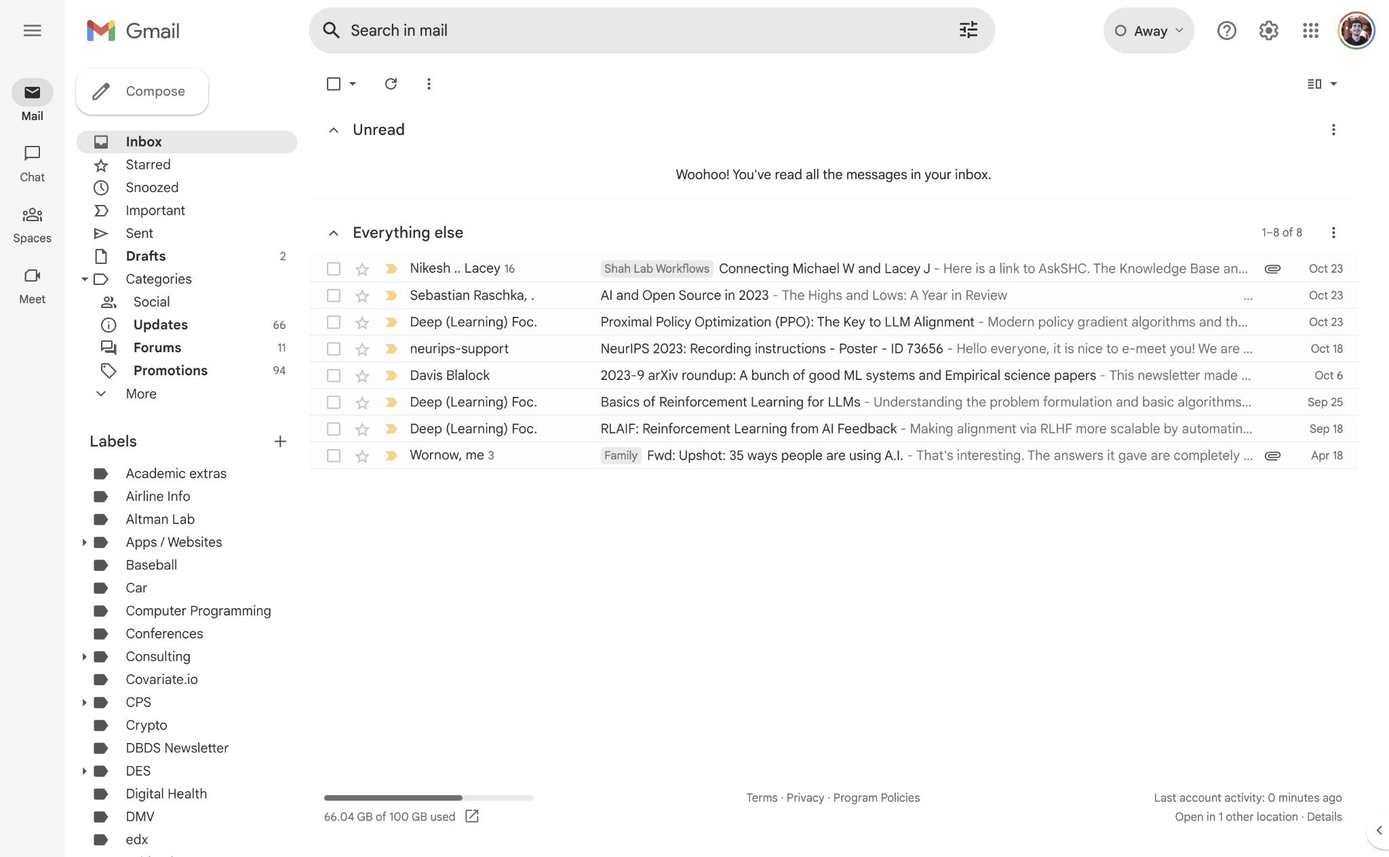webelement: (308, 60, 1373, 841), (308, 255, 1357, 468), (308, 106, 1357, 197), (64, 461, 296, 857), (0, 0, 1388, 60), (64, 130, 296, 404), (0, 60, 64, 856), (308, 788, 1357, 826), (308, 7, 994, 53), (308, 281, 1357, 308), (308, 308, 1357, 335), (308, 361, 1357, 388), (308, 388, 1357, 415), (308, 441, 1357, 468), (308, 255, 1357, 281), (308, 335, 1357, 361), (308, 415, 1357, 441), (600, 259, 1253, 278), (600, 285, 1253, 304), (600, 312, 1253, 331), (600, 339, 1253, 358), (600, 365, 1253, 384), (600, 392, 1253, 411), (600, 419, 1253, 438), (600, 445, 1253, 464), (350, 20, 902, 39), (76, 68, 207, 114), (11, 68, 141, 114), (316, 215, 470, 249), (75, 382, 296, 404), (1103, 7, 1193, 53), (409, 259, 600, 278), (409, 285, 600, 304), (409, 312, 600, 331), (409, 339, 600, 358), (409, 365, 600, 384), (409, 392, 600, 411), (409, 419, 600, 438), (409, 445, 600, 464), (89, 431, 270, 450), (316, 112, 411, 146), (125, 602, 271, 619), (1247, 215, 1315, 249), (941, 7, 994, 50), (8, 7, 54, 53), (308, 7, 354, 53), (125, 739, 228, 756), (125, 464, 226, 481), (1358, 803, 1389, 856), (125, 533, 221, 550), (1207, 11, 1245, 49), (1249, 11, 1287, 49), (1291, 11, 1329, 49), (125, 785, 206, 802), (125, 625, 202, 642), (1289, 259, 1357, 278), (1289, 285, 1357, 304), (1289, 312, 1357, 331), (1289, 339, 1357, 358), (1289, 365, 1357, 384), (1289, 419, 1357, 438), (1289, 445, 1357, 464), (133, 361, 207, 378), (125, 671, 197, 688), (11, 77, 52, 106), (11, 138, 52, 167), (11, 199, 52, 228), (125, 511, 194, 528), (11, 261, 52, 289), (125, 270, 191, 287), (125, 648, 190, 665), (125, 488, 190, 504), (125, 201, 184, 218), (0, 108, 64, 123), (0, 169, 64, 184), (0, 230, 64, 245), (0, 291, 64, 306), (132, 316, 187, 333), (125, 179, 178, 196), (125, 556, 176, 573), (133, 339, 180, 356), (125, 156, 170, 173), (125, 716, 167, 733), (324, 73, 361, 92), (125, 247, 165, 264), (1307, 392, 1342, 411), (1308, 259, 1342, 278), (1308, 285, 1342, 304), (1308, 312, 1342, 331), (1309, 419, 1343, 438), (125, 133, 161, 150), (133, 293, 169, 310), (1310, 339, 1342, 358), (1310, 445, 1342, 464), (1314, 365, 1342, 384), (1306, 810, 1342, 824), (125, 224, 153, 241), (125, 808, 153, 825), (125, 694, 150, 711), (125, 762, 149, 779), (270, 431, 289, 450), (1304, 73, 1323, 92), (1323, 119, 1342, 138), (1323, 223, 1342, 242), (352, 259, 371, 278), (380, 259, 399, 278), (352, 285, 371, 304), (380, 285, 399, 304), (352, 312, 371, 331), (380, 312, 399, 331), (352, 339, 371, 358), (380, 339, 399, 358), (352, 365, 371, 384), (380, 365, 399, 384), (352, 392, 371, 411), (380, 392, 399, 411), (352, 419, 371, 438), (380, 419, 399, 438), (352, 445, 371, 464), (380, 445, 399, 464), (463, 807, 482, 826), (125, 579, 146, 596), (125, 831, 146, 848), (343, 73, 361, 92), (125, 854, 179, 857), (1312, 119, 1315, 138)
